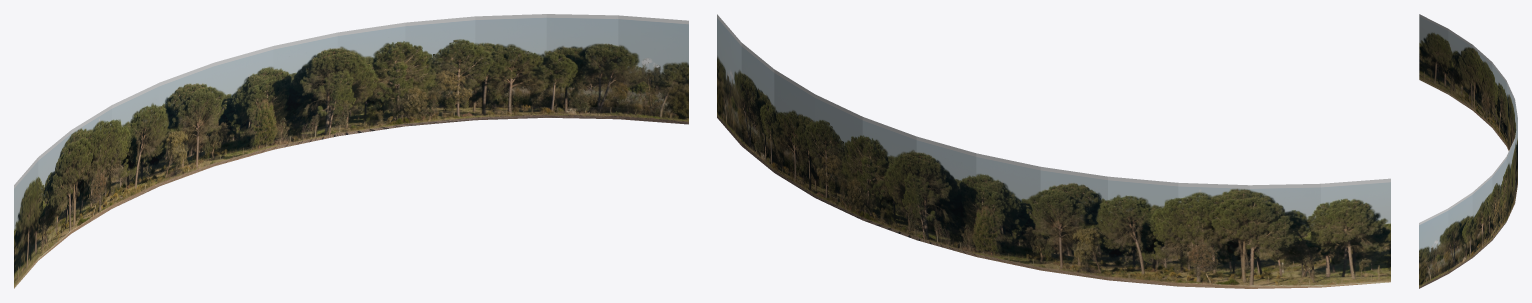
File: Background+09.glb
3 renders of one model, left to right at view 1: azimuth 30°, elevation 25°; view 2: azimuth 150°, elevation 25°; view 3: azimuth 270°, elevation 25°, orthographic. The views are drawn at different scales.
Visible parts, largest first — view 1: Sketchup; view 2: Sketchup; view 3: Sketchup.
Part boxes in pixels (x1,y1,x2,y2): Sketchup: (14,14,688,288); Sketchup: (717,14,1390,288); Sketchup: (1419,14,1517,288).
Size of the model in its own units: 74.96 by 11.03 by 15.
1 material, 1 textured.
